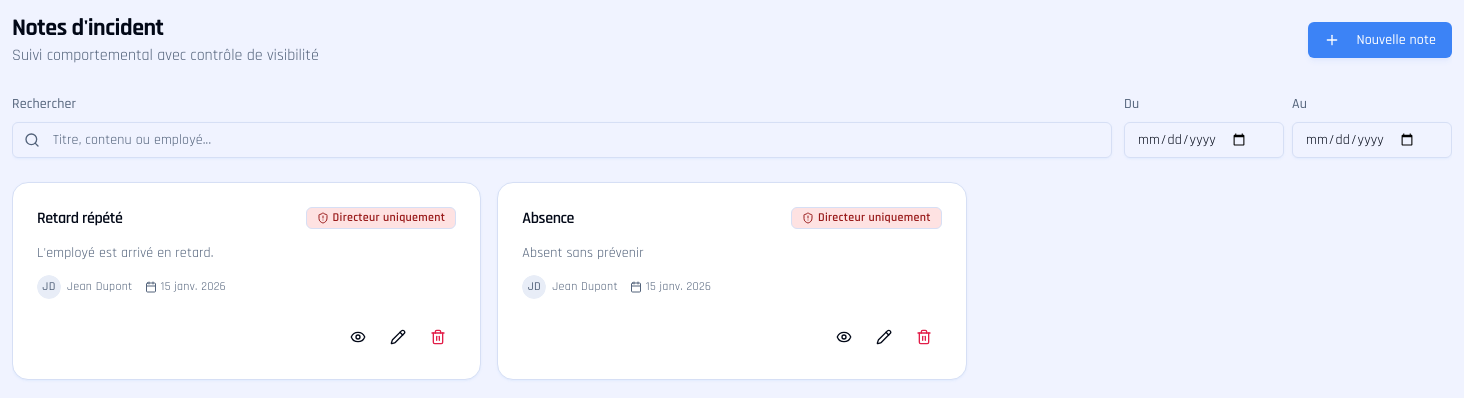
IncidentNotesPageContent › filtre les notes par recherche
Expected: the text "Retard répété" is shown, [37,207,123,231]
Expected: the text "Absence" is shown, [522,207,574,231]
Note: Filtrer par "Retard"
Type "Retard" into the field with test id "search-input" at (562, 140), box [12,122,1112,158]
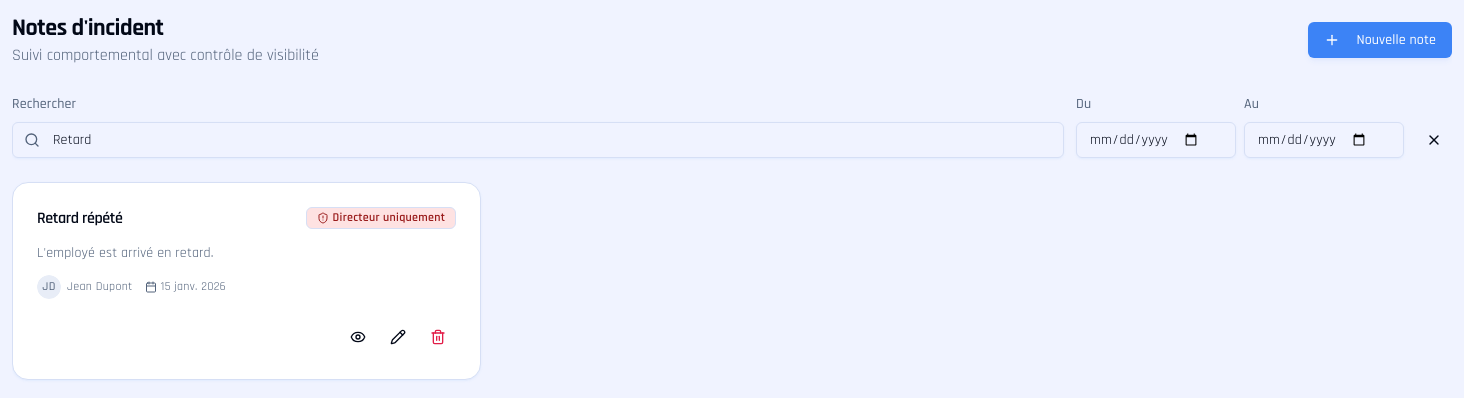
Expected: the text "Retard répété" is shown, [37,207,123,231]
Result: the text "Absence" is gone
